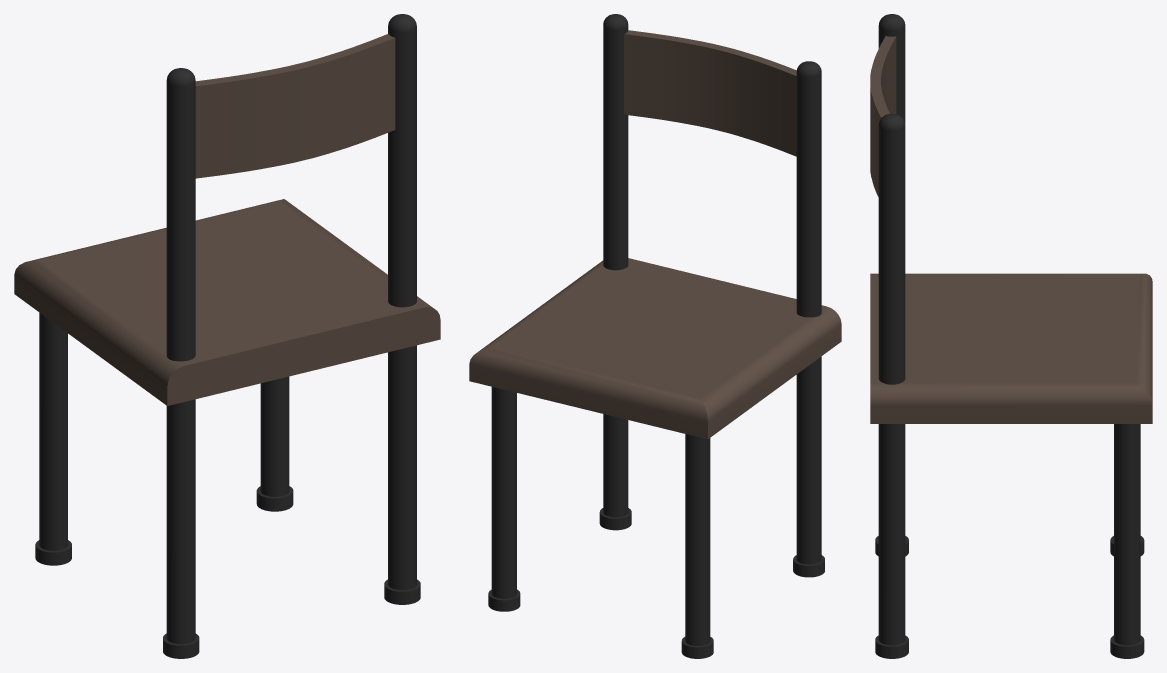
File: Chaise2_10.fbx
3 renders of one model, left to right at view 1: azimuth 30°, elevation 25°; view 2: azimuth 150°, elevation 25°; view 3: azimuth 270°, elevation 25°, orthographic. The views are drawn at different scales.
Visible parts, largest first — view 1: pCube2671, pCube2670, pCylinder1662, pCylinder1663, pCylinder1664, pCylinder1665; view 2: pCube2671, pCube2670, pCylinder1662, pCylinder1663, pCylinder1665, pCylinder1664; view 3: pCube2671, pCylinder1663, pCylinder1665, pCube2670, pCylinder1662.
Part boxes in pixels (x1,y1,x2,y2): pCube2671: [14, 199, 440, 405]; pCube2670: [195, 34, 395, 178]; pCylinder1662: [163, 68, 199, 658]; pCylinder1663: [384, 14, 420, 604]; pCylinder1664: [35, 312, 71, 565]; pCylinder1665: [256, 376, 293, 511]; pCube2671: [469, 258, 841, 439]; pCube2670: [624, 30, 796, 156]; pCylinder1662: [793, 61, 824, 577]; pCylinder1663: [599, 14, 631, 530]; pCylinder1665: [488, 387, 520, 611]; pCylinder1664: [681, 434, 713, 658]; pCube2671: [870, 273, 1152, 423]; pCylinder1663: [875, 113, 908, 658]; pCylinder1665: [1110, 424, 1144, 658]; pCube2670: [870, 36, 896, 196]; pCylinder1662: [875, 14, 908, 556].
Size of the model in its own units: 40.39 by 82.1 by 39.23.
